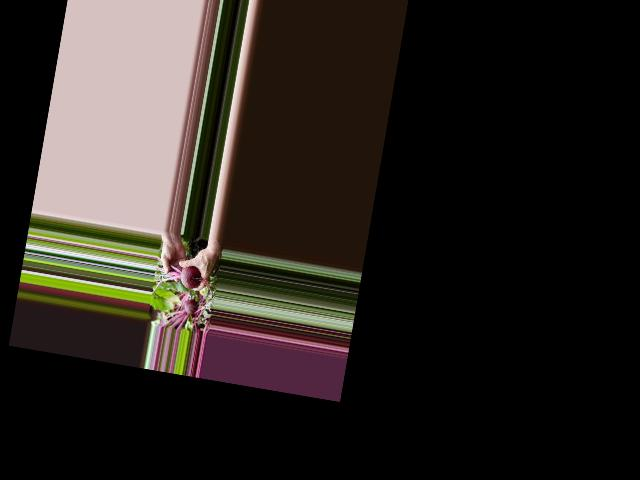beet: (151, 259, 203, 302)
